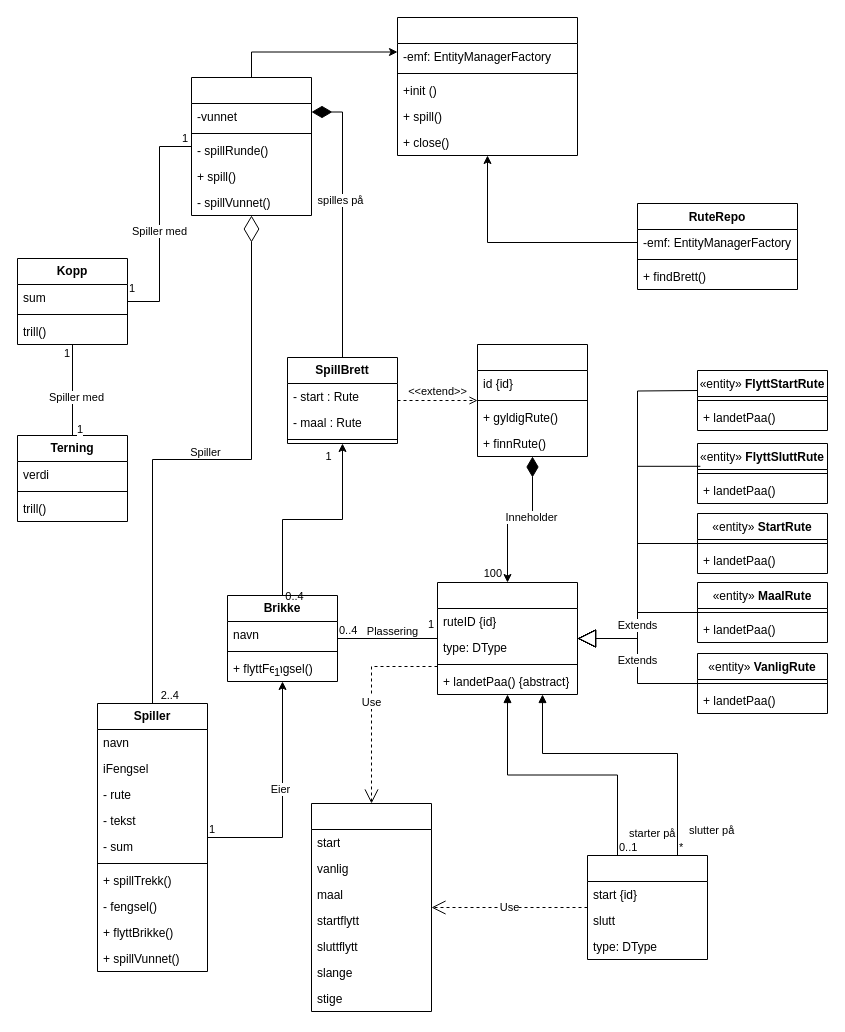
Some shapes in this 845 by 1032 pixel diagram are drawn without their labels. The shapes that lost their labels are listed below. From the top down, each one's box as (x1, y1, x2, y2) in pixels, then its label:
(396, 16, 578, 156): SpillService
(190, 76, 312, 216): Stigespill
(476, 344, 588, 456): «entity» Brett
(436, 582, 578, 694): «entity» Rute {abstract}
(310, 802, 432, 1012): «enum» DType
(586, 854, 708, 960): «entity» Flytt
